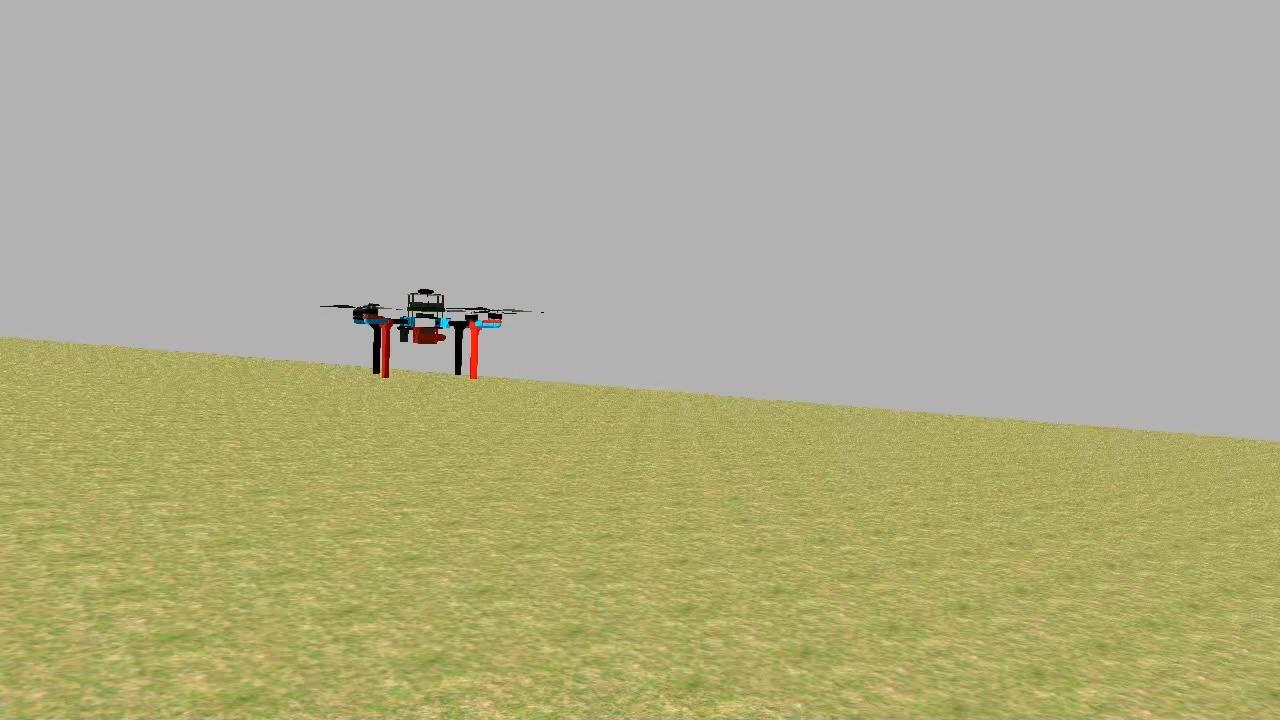UAV: (346, 282, 510, 384)
